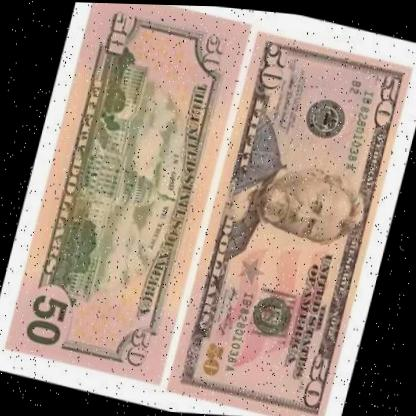fifty-back: (0, 0, 250, 397)
fifty-front: (163, 15, 416, 416)
